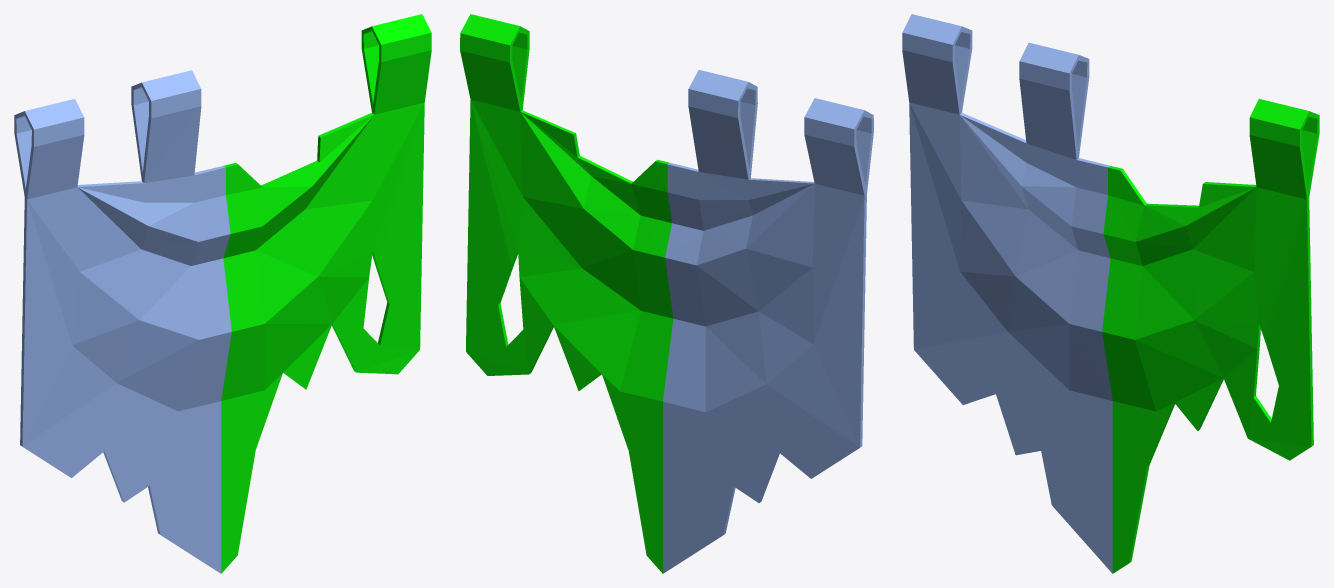
Rendered from SM_Flag_Banner_Short_A_Broken_Fantasy.fbx.
The picture shows the model from 3 angles, left to right: view 1: azimuth 30°, elevation 25°; view 2: azimuth 150°, elevation 25°; view 3: azimuth 330°, elevation 25°; orthographic projection.
Parts seen in each view (by area): view 1: flag-banner-short-a-broken-fantasy; view 2: flag-banner-short-a-broken-fantasy; view 3: flag-banner-short-a-broken-fantasy.
Boxes of the visible parts, left/top/right/bottom form: flag-banner-short-a-broken-fantasy: left=14, top=14, right=431, bottom=573; flag-banner-short-a-broken-fantasy: left=460, top=14, right=873, bottom=573; flag-banner-short-a-broken-fantasy: left=902, top=14, right=1319, bottom=573.
Size of the model in its own units: 0.9567 by 1.18 by 0.0831.
